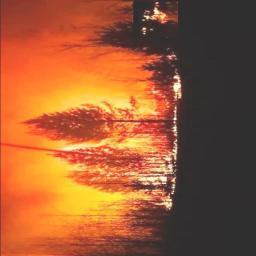Heavy smoke: (3, 1, 119, 239)
Medium fire: (100, 152, 177, 214)
Small fire: (158, 73, 183, 150), (138, 4, 186, 41)
